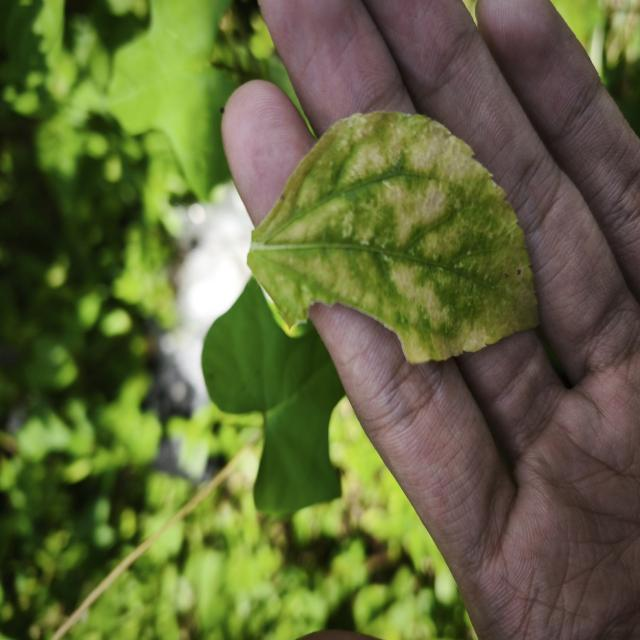Virus Kuning: (245, 109, 540, 366)
